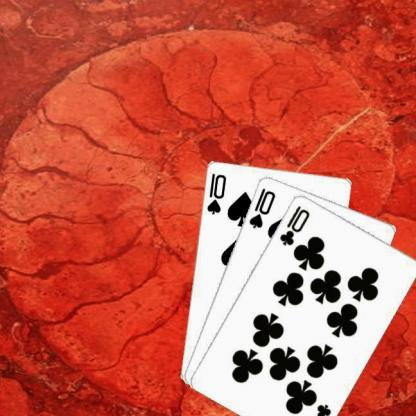10C: (276, 202, 311, 247), (297, 400, 332, 416)
10S: (246, 185, 277, 229), (204, 170, 228, 216)
